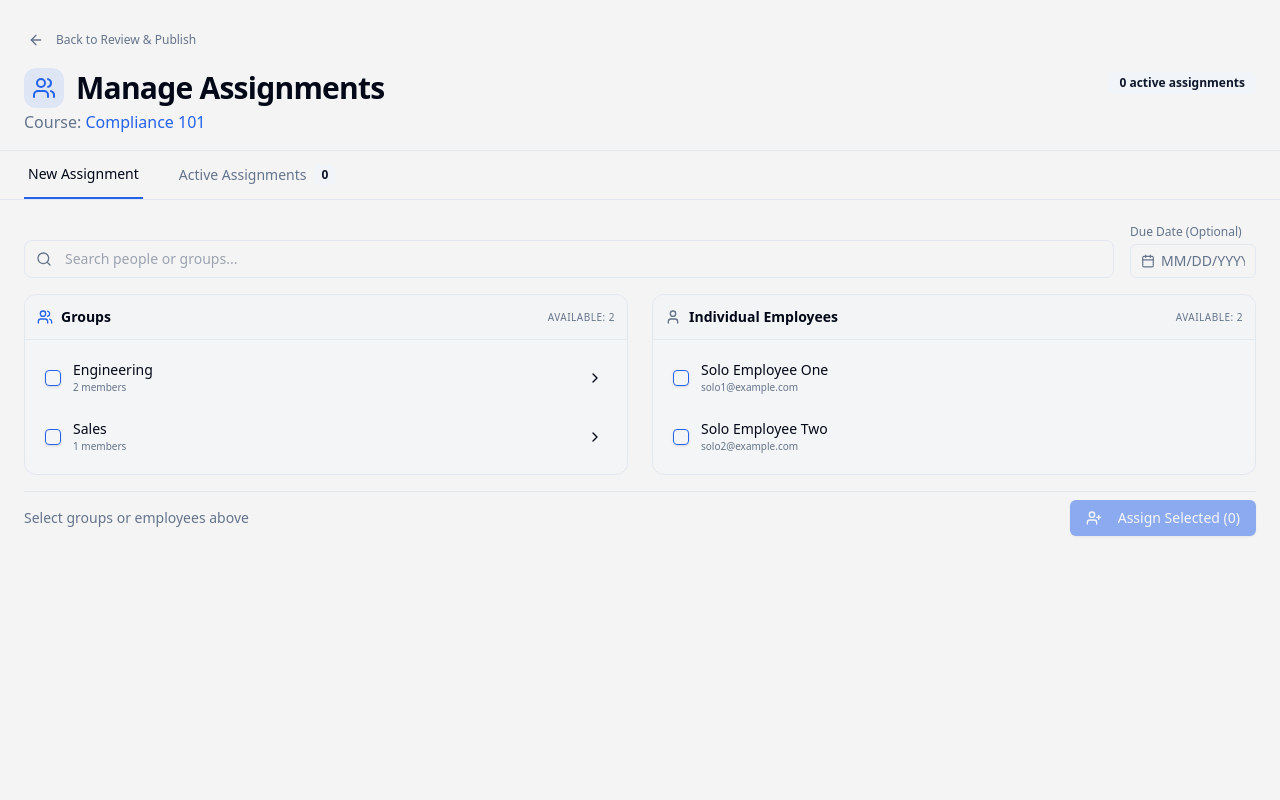
it: ManagerTrainingAssignments — group expand on New Assignment tab › clicking the View members chevron loads & shows the group's users
Expected: the text "Engineering" is shown, [73,360,153,379]
Click the button titled "View members" in the row of "Engineering" at coordinates (595, 378), box [583,366,607,390]
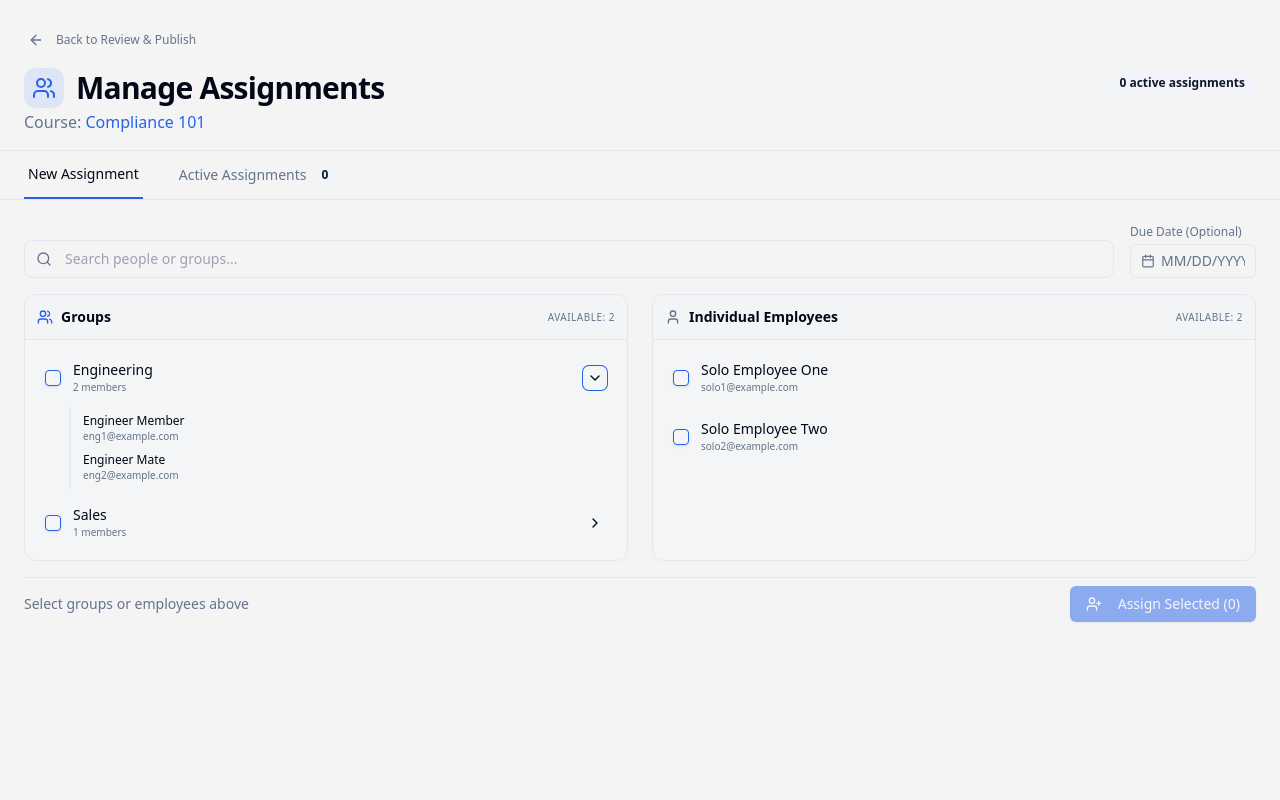
Expected: the text "Engineer Member" is shown, [83,412,185,429]
Expected: the text "Engineer Mate" is shown, [83,451,165,468]
